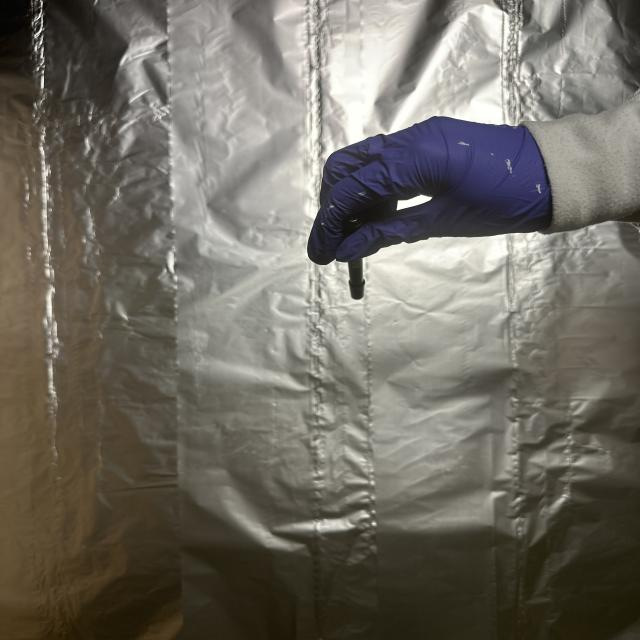gloves_contaminated: (308, 117, 551, 264)
